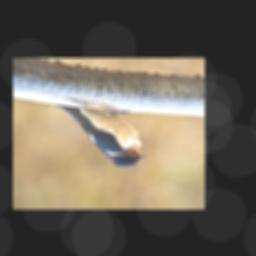Swallow: (56, 104, 147, 168)
